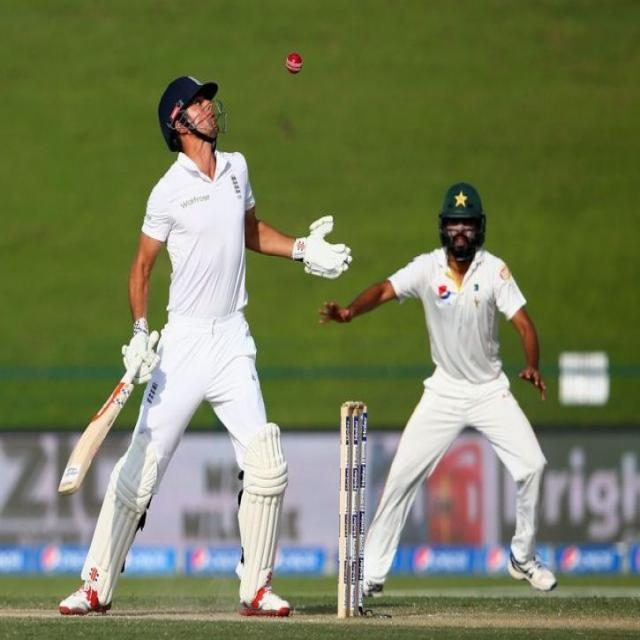ball: (286, 51, 304, 73)
stump: (336, 401, 367, 620)
